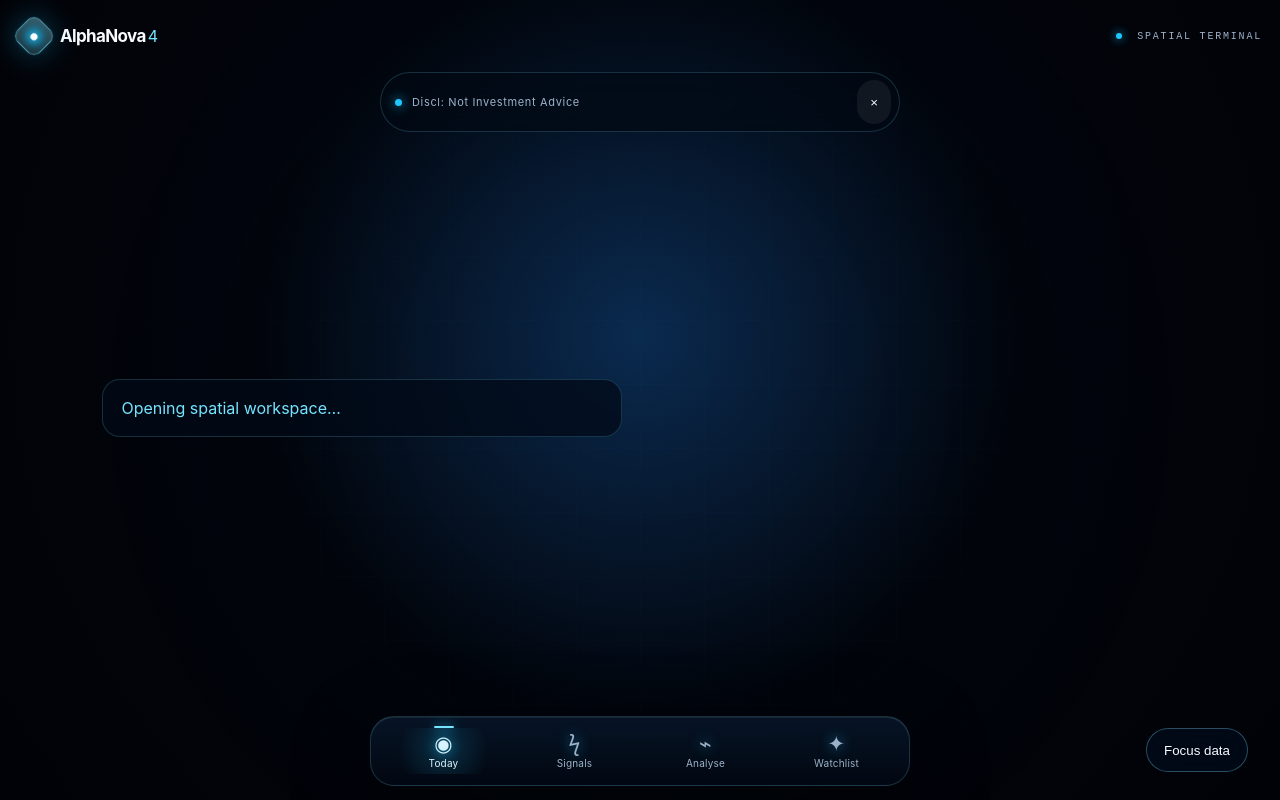
Test: AlphaNova4 shell › focus mode freezes the universe and exposes a stable data surface
The image size is (1280, 800).
Click the button "Focus data".
click(1197, 750)  # box left=1146, top=728, right=1248, bottom=772
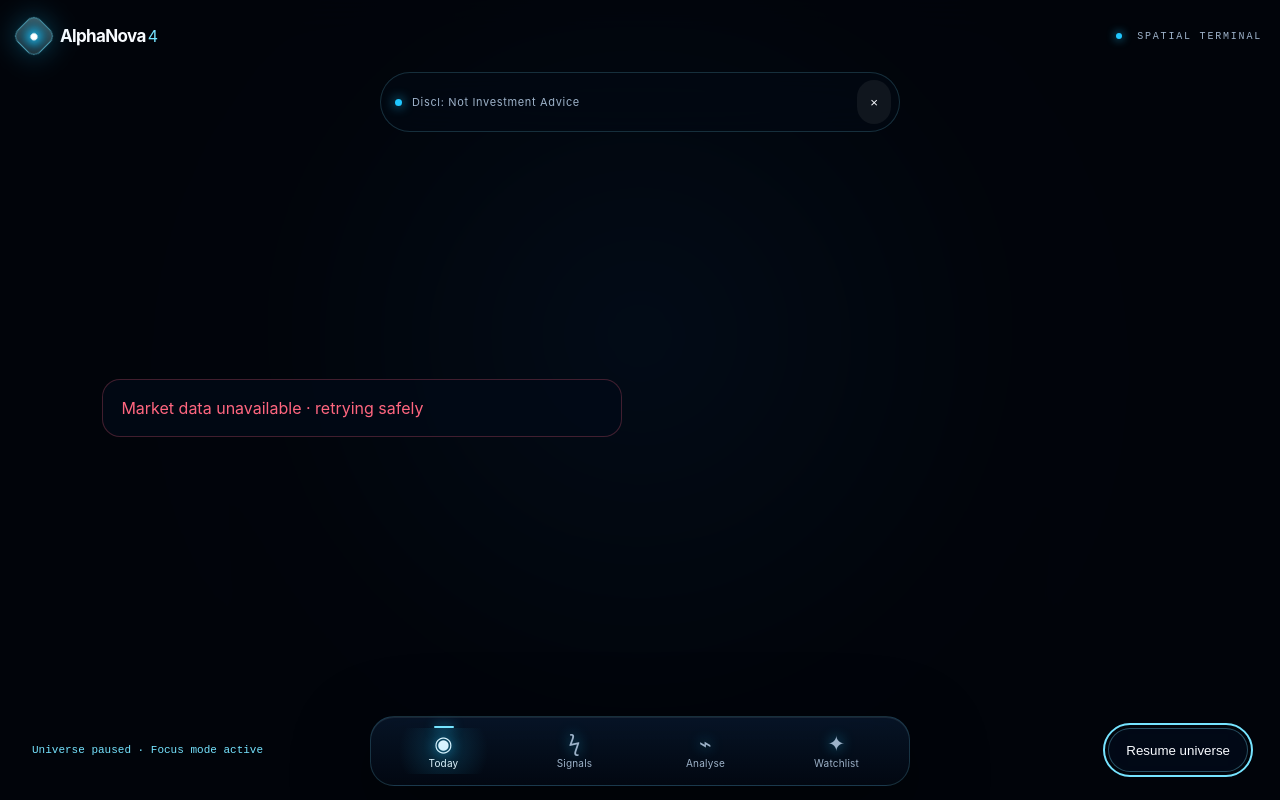
Expected: the button "Resume universe" is shown, left=1108, top=728, right=1248, bottom=772
